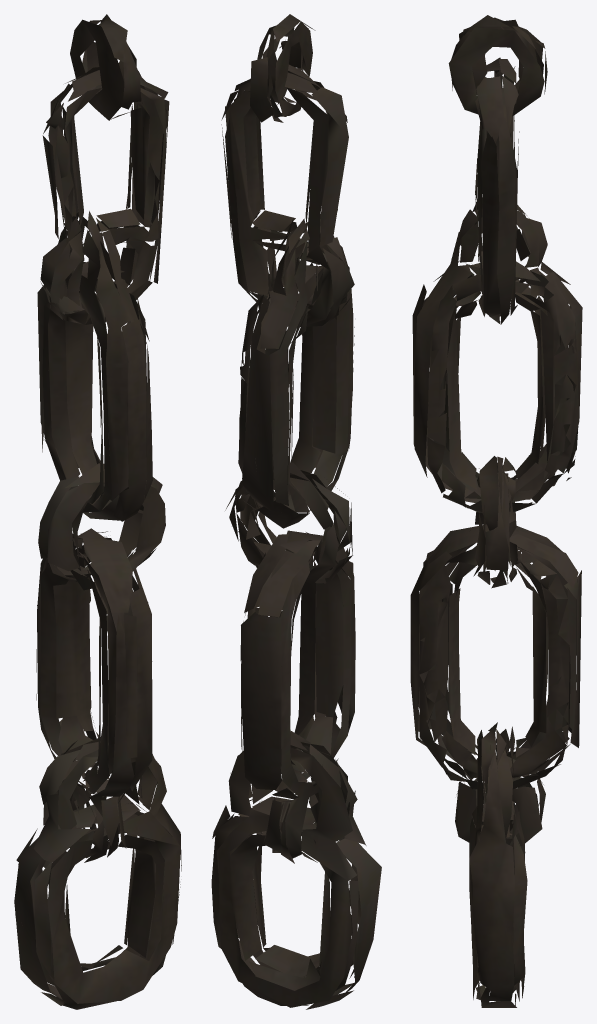
The model's file is dre_chain_short.glb.
3 views of the same model, side by side, from view 1: azimuth 30°, elevation 25°; view 2: azimuth 150°, elevation 25°; view 3: azimuth 270°, elevation 25° (orthographic).
Parts seen in each view (by area): view 1: MetricPlacement; view 2: MetricPlacement; view 3: MetricPlacement.
Boxes of the visible parts, x1,y1,x2,y2 form: MetricPlacement: (14, 14, 181, 1009); MetricPlacement: (211, 14, 381, 1009); MetricPlacement: (410, 15, 582, 1007).
Bounding box in the file's own units: 0.2551 × 1.5 × 0.2373.
Materials: 1 (1 with a texture image).
